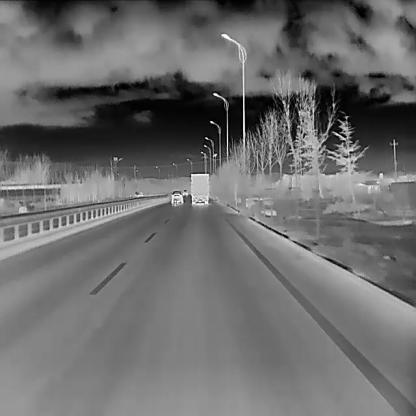car: (190, 172, 209, 204), (171, 189, 184, 204), (182, 188, 188, 196)
